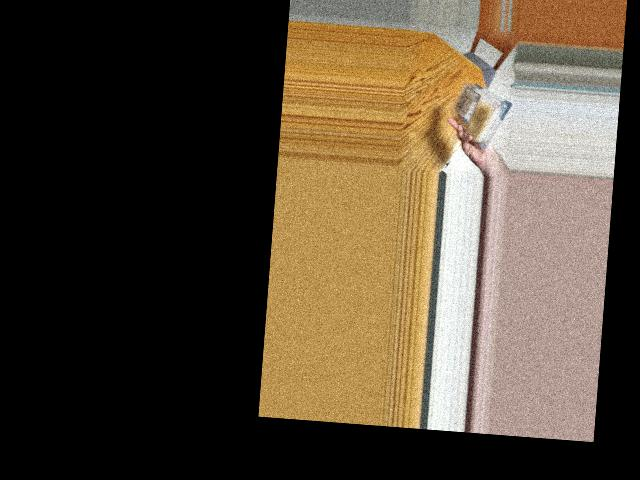cheese: (458, 81, 508, 151)
